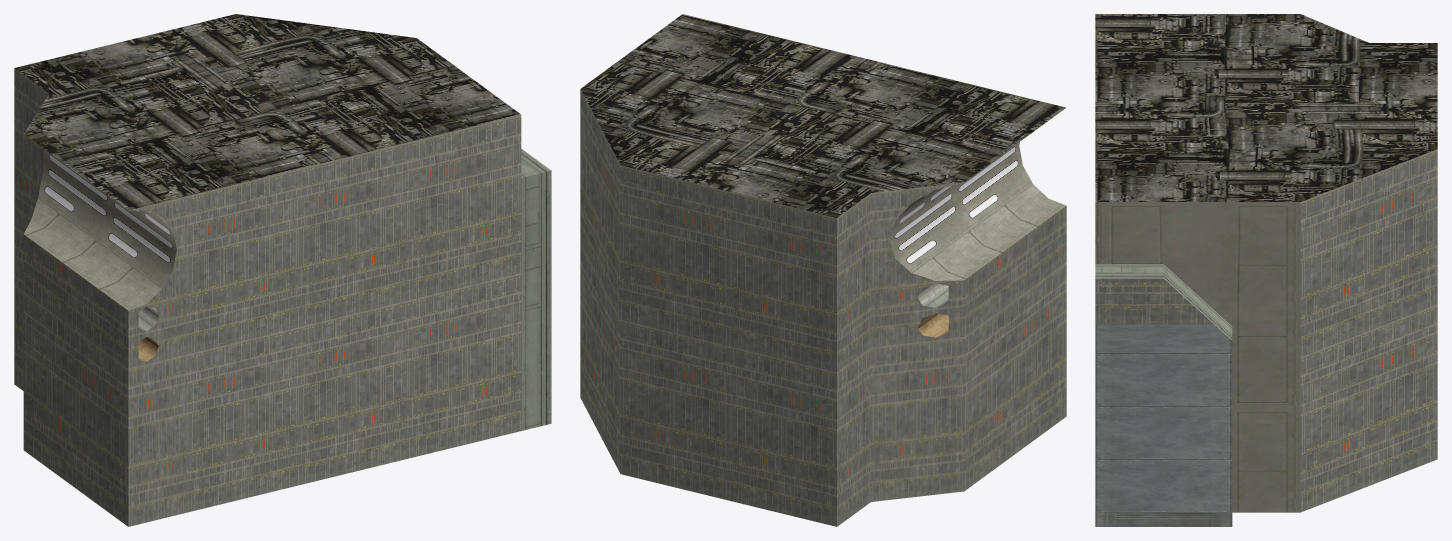
Rendered from thm_tato_fallen_star_r6_fresher01_mesh_r6.fbx.
The picture shows the model from 3 angles, left to right: view 1: azimuth 30°, elevation 25°; view 2: azimuth 150°, elevation 25°; view 3: azimuth 270°, elevation 25°; orthographic projection. The views are drawn at different scales.
Visible parts, largest first — view 1: mesh_node; view 2: mesh_node; view 3: mesh_node.
Boxes of the visible parts, x1,y1,x2,y2 form: mesh_node: (14, 14, 551, 526); mesh_node: (580, 14, 1066, 526); mesh_node: (1095, 14, 1437, 526).
Size of the model in its own units: 7 by 5 by 5.
